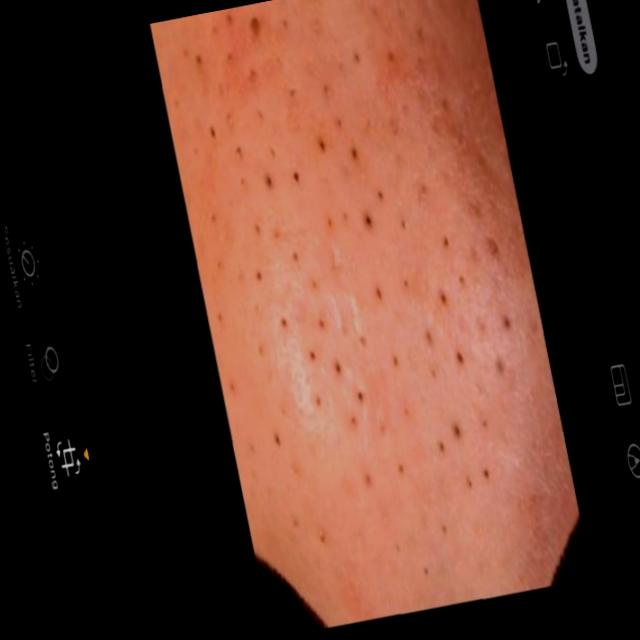blackhead: (202, 26, 547, 569)
